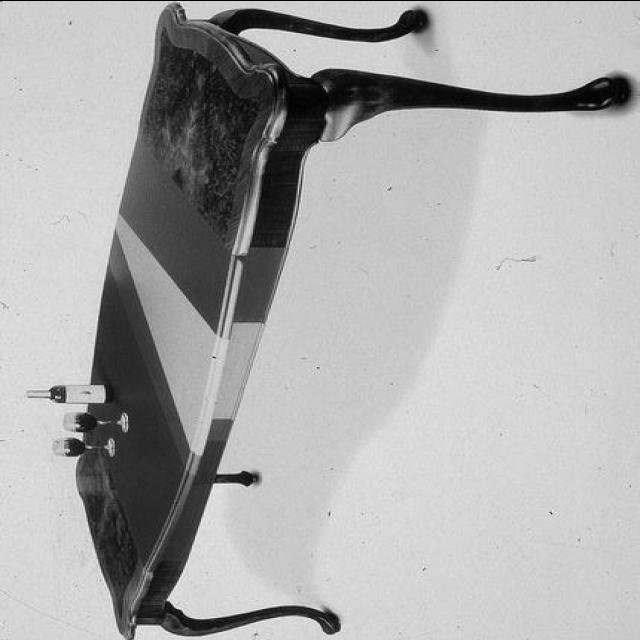table: (71, 8, 628, 636)
